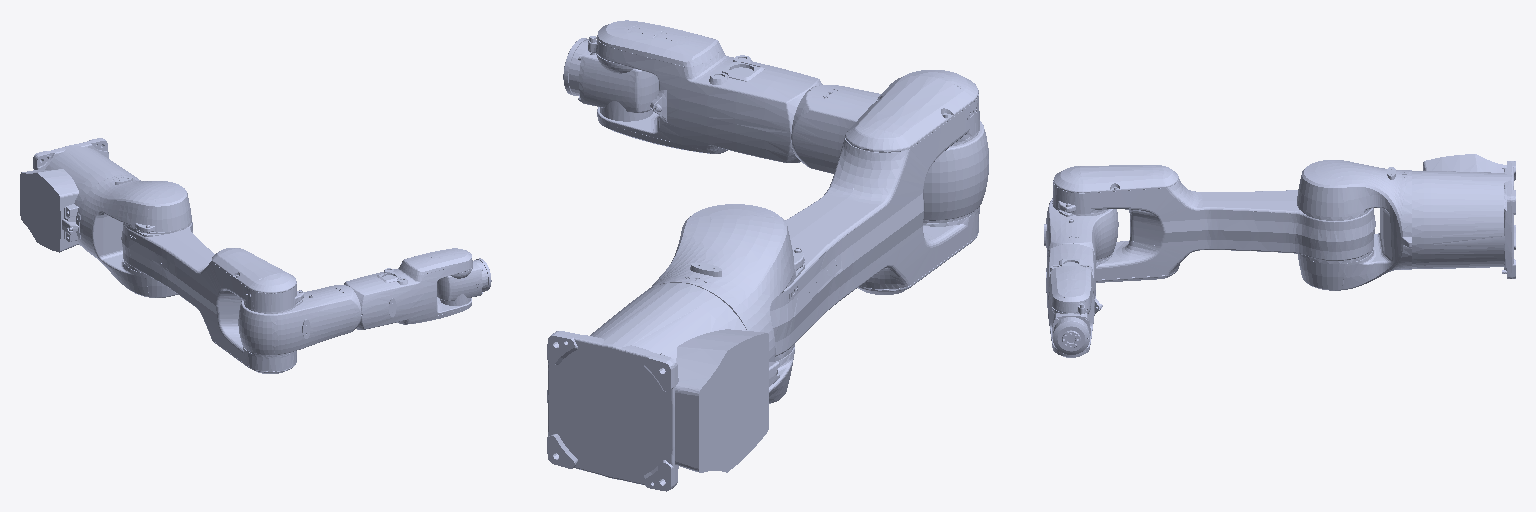
robot.urdf — kuka1100_Model:
<?xml version="1.0" encoding="utf-8"?>
<!-- This URDF was automatically created by SolidWorks to URDF Exporter! Originally created by [author] ([email redacted]) 
     Commit Version: 1.5.1-0-g916b5db  Build Version: 1.5.7152.31018
     For more information, please see http://wiki.ros.org/sw_urdf_exporter -->
<robot
  name="kuka1100_Model">
  <link
    name="base_link">
    <inertial>
      <origin
        xyz="-0.01839 -0.11546 -3.5867E-07"
        rpy="0 0 0" />
      <mass
        value="9.7311" />
      <inertia
        ixx="0.068361"
        ixy="0.00039866"
        ixz="1.2981E-05"
        iyy="0.071042"
        iyz="-2.8017E-07"
        izz="0.08273" />
    </inertial>
    <visual>
      <origin
        xyz="0 0 0"
        rpy="0 0 0" />
      <geometry>
        <mesh
          filename="package://meshes/base_link.STL" />
      </geometry>
      <material
        name="">
        <color
          rgba="0.79216 0.81961 0.93333 1" />
      </material>
    </visual>
    <collision>
      <origin
        xyz="0 0 0"
        rpy="0 0 0" />
      <geometry>
        <mesh
          filename="package://meshes/base_link.STL" />
      </geometry>
    </collision>
  </link>
  <link
    name="Link_1">
    <inertial>
      <origin
        xyz="0.0079094 -0.00051067 0.11392"
        rpy="0 0 0" />
      <mass
        value="5.9769" />
      <inertia
        ixx="0.071513"
        ixy="0.0002499"
        ixz="-0.0049547"
        iyy="0.045683"
        iyz="0.00048967"
        izz="0.053884" />
    </inertial>
    <visual>
      <origin
        xyz="0 0 0"
        rpy="0 0 0" />
      <geometry>
        <mesh
          filename="package://meshes/Link_1.STL" />
      </geometry>
      <material
        name="">
        <color
          rgba="0.79216 0.81961 0.93333 1" />
      </material>
    </visual>
    <collision>
      <origin
        xyz="0 0 0"
        rpy="0 0 0" />
      <geometry>
        <mesh
          filename="package://meshes/Link_1.STL" />
      </geometry>
    </collision>
  </link>
  <joint
    name="Link_1_Joint"
    type="continuous">
    <origin
      xyz="0 -0.2197 0"
      rpy="1.5708 0 0" />
    <parent
      link="base_link" />
    <child
      link="Link_1" />
    <axis
      xyz="0 0 1" />
  </joint>
  <link
    name="Link_2">
    <inertial>
      <origin
        xyz="-0.0091178 0.0012697 0.26717"
        rpy="0 0 0" />
      <mass
        value="10.818" />
      <inertia
        ixx="0.49931"
        ixy="-0.00011979"
        ixz="0.0016486"
        iyy="0.47205"
        iyz="-0.0035597"
        izz="0.054941" />
    </inertial>
    <visual>
      <origin
        xyz="0 0 0"
        rpy="0 0 0" />
      <geometry>
        <mesh
          filename="package://meshes/Link_2.STL" />
      </geometry>
      <material
        name="">
        <color
          rgba="0.79216 0.81961 0.93333 1" />
      </material>
    </visual>
    <collision>
      <origin
        xyz="0 0 0"
        rpy="0 0 0" />
      <geometry>
        <mesh
          filename="package://meshes/Link_2.STL" />
      </geometry>
    </collision>
  </link>
  <joint
    name="Link_2_Joint"
    type="continuous">
    <origin
      xyz="0.025 0 0.1803"
      rpy="0 0 0" />
    <parent
      link="Link_1" />
    <child
      link="Link_2" />
    <axis
      xyz="0 1 0" />
  </joint>
  <link
    name="Link_3">
    <inertial>
      <origin
        xyz="0.052477 -0.0027427 0.011131"
        rpy="0 0 0" />
      <mass
        value="3.9762" />
      <inertia
        ixx="0.010346"
        ixy="-0.00042699"
        ixz="-0.0031202"
        iyy="0.028663"
        iyz="-5.8213E-05"
        izz="0.027652" />
    </inertial>
    <visual>
      <origin
        xyz="0 0 0"
        rpy="0 0 0" />
      <geometry>
        <mesh
          filename="package://meshes/Link_3.STL" />
      </geometry>
      <material
        name="">
        <color
          rgba="0.79216 0.81961 0.93333 1" />
      </material>
    </visual>
    <collision>
      <origin
        xyz="0 0 0"
        rpy="0 0 0" />
      <geometry>
        <mesh
          filename="package://meshes/Link_3.STL" />
      </geometry>
    </collision>
  </link>
  <joint
    name="Link_3_Joint"
    type="continuous">
    <origin
      xyz="0 0 0.56"
      rpy="0 0 0" />
    <parent
      link="Link_2" />
    <child
      link="Link_3" />
    <axis
      xyz="0 1 0" />
  </joint>
  <link
    name="Link_4">
    <inertial>
      <origin
        xyz="0.15389 0.0016773 -6.1882E-05"
        rpy="0 0 0" />
      <mass
        value="3.508" />
      <inertia
        ixx="0.0085362"
        ixy="-0.0009713"
        ixz="3.4166E-05"
        iyy="0.028688"
        iyz="3.483E-06"
        izz="0.031601" />
    </inertial>
    <visual>
      <origin
        xyz="0 0 0"
        rpy="0 0 0" />
      <geometry>
        <mesh
          filename="package://meshes/Link_4.STL" />
      </geometry>
      <material
        name="">
        <color
          rgba="0.79216 0.81961 0.93333 1" />
      </material>
    </visual>
    <collision>
      <origin
        xyz="0 0 0"
        rpy="0 0 0" />
      <geometry>
        <mesh
          filename="package://meshes/Link_4.STL" />
      </geometry>
    </collision>
  </link>
  <joint
    name="Link_4_Joint"
    type="continuous">
    <origin
      xyz="0.205 0 0.025"
      rpy="0 0 0" />
    <parent
      link="Link_3" />
    <child
      link="Link_4" />
    <axis
      xyz="1 0 0" />
  </joint>
  <link
    name="Link_5">
    <inertial>
      <origin
        xyz="0.011453 -0.0014222 -4.1845E-06"
        rpy="0 0 0" />
      <mass
        value="0.76357" />
      <inertia
        ixx="0.00085577"
        ixy="-9.9001E-06"
        ixz="9.0656E-08"
        iyy="0.001097"
        iyz="1.1071E-07"
        izz="0.0012515" />
    </inertial>
    <visual>
      <origin
        xyz="0 0 0"
        rpy="0 0 0" />
      <geometry>
        <mesh
          filename="package://meshes/Link_5.STL" />
      </geometry>
      <material
        name="">
        <color
          rgba="0.79216 0.81961 0.93333 1" />
      </material>
    </visual>
    <collision>
      <origin
        xyz="0 0 0"
        rpy="0 0 0" />
      <geometry>
        <mesh
          filename="package://meshes/Link_5.STL" />
      </geometry>
    </collision>
  </link>
  <joint
    name="Link_5_Joint"
    type="continuous">
    <origin
      xyz="0.31 0 0"
      rpy="0 0 0" />
    <parent
      link="Link_4" />
    <child
      link="Link_5" />
    <axis
      xyz="0 1 0" />
  </joint>
  <link
    name="Flange">
    <inertial>
      <origin
        xyz="0.077274 0.05 9.0135E-06"
        rpy="0 0 0" />
      <mass
        value="0.076023" />
      <inertia
        ixx="5.4319E-05"
        ixy="-2.6555E-17"
        ixz="-4.1305E-09"
        iyy="2.8966E-05"
        iyz="3.2422E-16"
        izz="2.8962E-05" />
    </inertial>
    <visual>
      <origin
        xyz="0 0 0"
        rpy="0 0 0" />
      <geometry>
        <mesh
          filename="package://meshes/Flange.STL" />
      </geometry>
      <material
        name="">
        <color
          rgba="0.79216 0.81961 0.93333 1" />
      </material>
    </visual>
    <collision>
      <origin
        xyz="0 0 0"
        rpy="0 0 0" />
      <geometry>
        <mesh
          filename="package://meshes/Flange.STL" />
      </geometry>
    </collision>
  </link>
  <joint
    name="Flange_Joint"
    type="continuous">
    <origin
      xyz="0 -0.05 0"
      rpy="0 0 0" />
    <parent
      link="Link_5" />
    <child
      link="Flange" />
    <axis
      xyz="1 0 0" />
  </joint>
</robot>

--- What the picture shows (computed from the rendered views, not written in the file) ---
3 views of the same robot in one strip: view 1: azimuth 30°, elevation 25°; view 2: azimuth 150°, elevation 25°; view 3: azimuth 270°, elevation 25° (orthographic).
Model kuka1100_Model with 7 links and 6 joints (6 continuous), rooted at base_link, posed every joint at zero.
Visible links, largest first — view 1: Link_2, Link_1, base_link, Link_4, Link_3, Link_5; view 2: base_link, Link_2, Link_4, Link_1, Link_3, Link_5; view 3: Link_2, base_link, Link_1, Link_4, Link_3, Flange.
Link boxes in pixels (x1,y1,x2,y2): Link_2: (121,220,303,373); Link_1: (76,175,191,297); base_link: (20,138,140,252); Link_4: (344,248,472,329); Link_3: (238,285,360,356); Link_5: (437,260,487,305); base_link: (547,283,779,491); Link_2: (770,70,979,361); Link_4: (588,20,822,162); Link_1: (648,204,804,403); Link_3: (791,85,988,222); Link_5: (569,40,658,121); Link_2: (1052,165,1375,282); base_link: (1412,154,1515,278); Link_1: (1297,160,1411,290); Link_4: (1046,244,1102,357); Link_3: (1044,198,1118,262); Flange: (1053,320,1089,354).
Size in the robot's own frame: 0.772 by 1.04 by 0.2736 metres.
7 mesh visuals loaded from 7 distinct referenced files (7 binary STL).